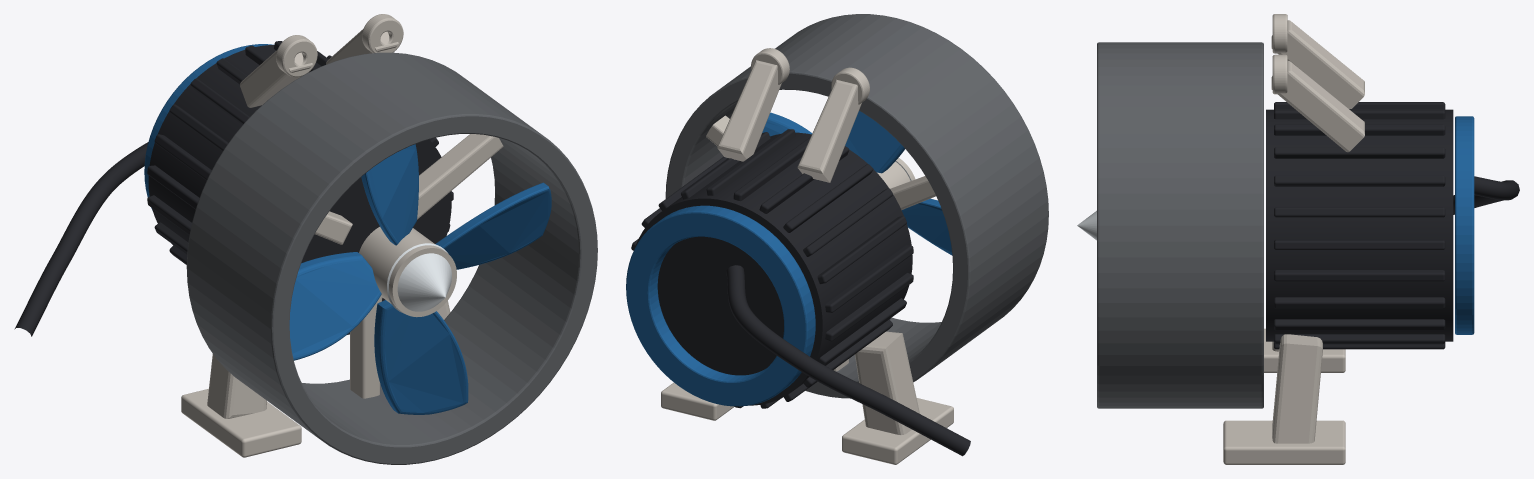
The model's file is anatomy-30.glb.
3 renders of one model, left to right at view 1: azimuth 30°, elevation 25°; view 2: azimuth 150°, elevation 25°; view 3: azimuth 270°, elevation 25°, orthographic. The views are drawn at different scales.
Parts seen in each view (by area): view 1: duct, blades, motor, mount, supports, hub, cooling, lift-tabs, wire; view 2: duct, motor, cooling, mount, lift-tabs, wire, blades, supports, hub; view 3: duct, motor, cooling, mount, lift-tabs, wire.
Part boxes in pixels (box(x1,y1,x2,y2)): duct: box(186, 52, 597, 464); blades: box(289, 144, 551, 414); motor: box(144, 44, 451, 334); mount: box(181, 301, 450, 457); supports: box(315, 134, 503, 398); hub: box(359, 227, 456, 317); cooling: box(147, 41, 453, 264); lift-tabs: box(240, 14, 403, 107); wire: box(14, 142, 148, 336); duct: box(665, 14, 1048, 398); motor: box(626, 132, 912, 406); cooling: box(631, 129, 913, 408); mount: box(661, 331, 953, 464); lift-tabs: box(717, 48, 869, 182); wire: box(726, 265, 970, 456); blades: box(762, 111, 952, 255); supports: box(706, 115, 935, 371); hub: box(877, 157, 915, 188); duct: box(1097, 42, 1263, 408); motor: box(1266, 109, 1474, 341); cooling: box(1274, 102, 1445, 349); mount: box(1223, 328, 1345, 464); lift-tabs: box(1271, 14, 1364, 152); wire: box(1453, 176, 1519, 214).
Bounding box in the file's own units: 1.68 × 1.48 × 1.61.
